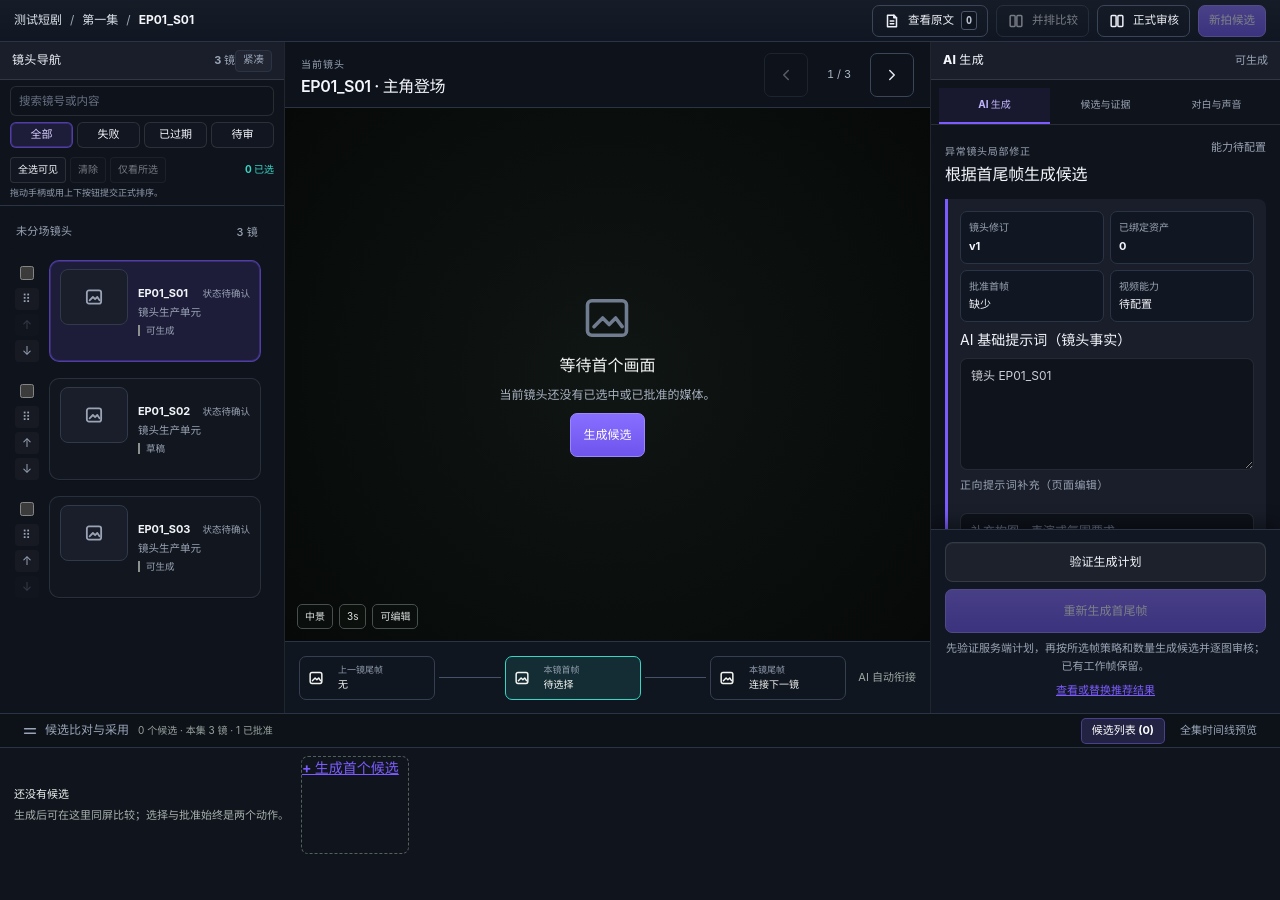
DirectorDeskPage (PR-CUR-002) › switches shots smoothly without unmounting desk or flashing full-page loading indicator
Expected: the heading "EP01_S01 · 主角登场" is shown, [301,76,445,97]
Click the link "EP01_S02 状态待确认 镜头生产单元 草稿".
click(155, 429)  # box [49,378,261,480]
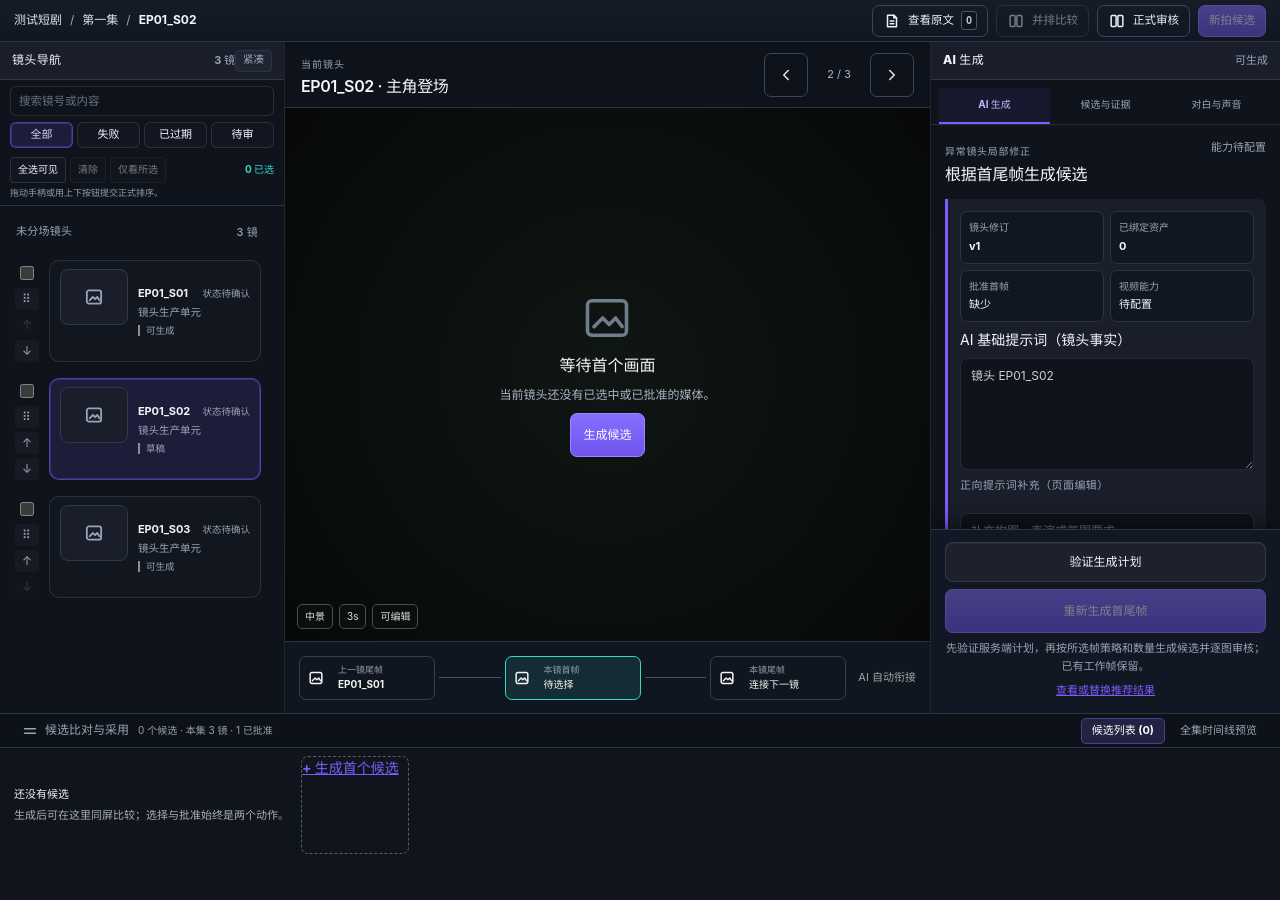
Expected: the element "镜头导航" is shown, [0,42,285,713]
Now the heading "EP01_S02 · 主角登场" is shown, box [301,76,448,97]
